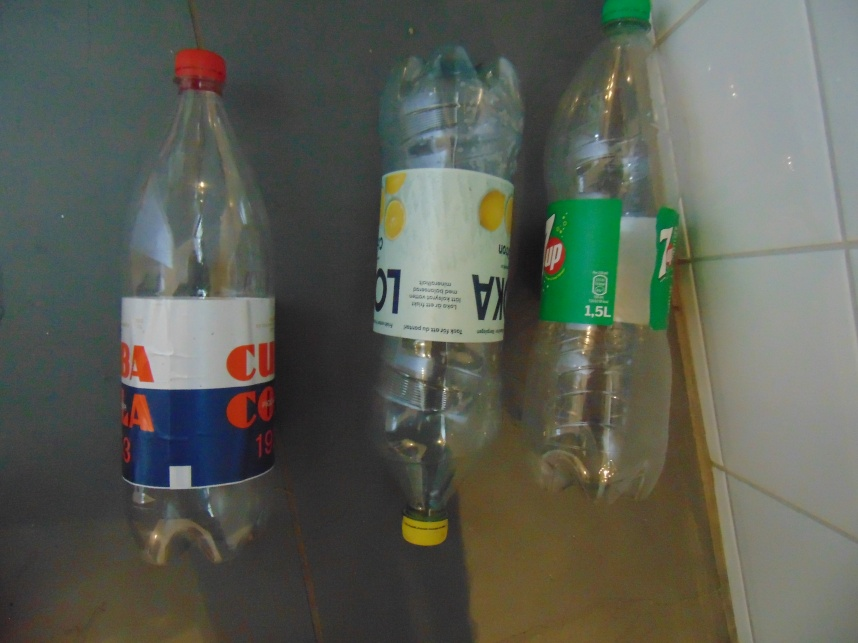plastic_bottle: (120, 47, 286, 564), (362, 46, 524, 551), (525, 1, 687, 506)
